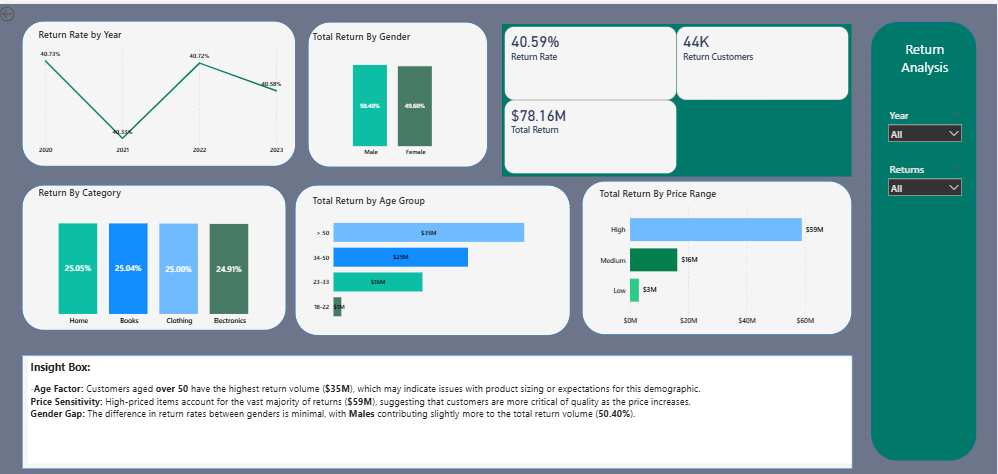

What the dashboard file says about the page in this screenshot:
{"tool":"powerbi","page":{"name":"Return ","canvas":[2000,950],"ordinal":3},"visuals":[{"type":"shape","box":[1748.4,36.6,210.8,877.4],"z":0},{"type":"shape","box":[49.4,361,528.2,290.7],"z":1000},{"type":"shape","box":[49.4,34.2,547.2,290.7],"z":2000},{"type":"columnChart","title":"Return By Category","fields":{"Category":["ecommerce_customer_data_large.Product Category"],"Series":["ecommerce_customer_data_large.Product Category"],"Y":["ecommerce_customer_data_large.Total Return"]},"box":[77.9,364.8,473.1,286.9],"z":3000},{"type":"lineChart","title":"Return Rate by Year","fields":{"Category":["ecommerce_customer_data_large.Year"],"Y":["ecommerce_customer_data_large.Return Rate general"]},"box":[77.9,47.5,499.7,262.2],"z":4000},{"type":"shape","box":[595.7,361.3,550.5,301.1],"z":5000},{"type":"shape","box":[621.5,36.6,359.1,290.3],"z":6000},{"type":"barChart","fields":{"Category":["ecommerce_customer_data_large.Age Group"],"Y":["ecommerce_customer_data_large.Total Return"]},"box":[625.8,380.6,488.2,271],"z":7000},{"type":"columnChart","title":"Total Return By Gender","fields":{"Category":["ecommerce_customer_data_large.Gender"],"Series":["ecommerce_customer_data_large.Gender"],"Y":["ecommerce_customer_data_large.Total Return"]},"box":[625.8,51.6,333.3,262.4],"z":8000},{"type":"textbox","box":[1772,66.7,167.7,86],"z":9000},{"type":"slicer","fields":{"Values":["ecommerce_customer_data_large.Year"]},"box":[1772,202.2,167.7,88.2],"z":10000},{"type":"slicer","fields":{"Values":["ecommerce_customer_data_large.Returns"]},"box":[1772,309.7,167.7,88.2],"z":11000},{"type":"shape","box":[1169.9,354.8,539.8,307.5],"z":12000},{"type":"barChart","title":"Total Return By Price Range","fields":{"Category":["ecommerce_customer_data_large.Price Range"],"Y":["ecommerce_customer_data_large.Total Return"]},"box":[1200,365.6,486,286],"z":13000},{"type":"shape","box":[49.4,701.1,1660.6,228],"z":14000},{"type":"textbox","box":[62.7,706.8,1647.3,212.8],"z":15000},{"type":"actionButton","box":[0,0,100,40],"z":16000},{"type":"cardVisual","fields":{"Data":["ecommerce_customer_data_large.Return Rate","ecommerce_customer_data_large.Return Customers","ecommerce_customer_data_large.Total Return"]},"box":[1010,40.1,698.9,305.4],"z":17000}]}

Visuals, with their boxes in screenshot pixels (x1, y1, x2, y2), scaled from the page's 2000x950 canvas onto the 998x474 screenshot:
shape: (x1=872, y1=18, x2=978, y2=456)
shape: (x1=25, y1=180, x2=288, y2=325)
shape: (x1=25, y1=17, x2=298, y2=162)
"Return By Category" columnChart: (x1=39, y1=182, x2=275, y2=325)
"Return Rate by Year" lineChart: (x1=39, y1=24, x2=288, y2=155)
shape: (x1=297, y1=180, x2=572, y2=331)
shape: (x1=310, y1=18, x2=489, y2=163)
barChart - ecommerce_customer_data_large.Age Group x ecommerce_customer_data_large.Total Return: (x1=312, y1=190, x2=556, y2=325)
"Total Return By Gender" columnChart: (x1=312, y1=26, x2=479, y2=157)
textbox: (x1=884, y1=33, x2=968, y2=76)
slicer - ecommerce_customer_data_large.Year: (x1=884, y1=101, x2=968, y2=145)
slicer - ecommerce_customer_data_large.Returns: (x1=884, y1=155, x2=968, y2=199)
shape: (x1=584, y1=177, x2=853, y2=330)
"Total Return By Price Range" barChart: (x1=599, y1=182, x2=841, y2=325)
shape: (x1=25, y1=350, x2=853, y2=464)
textbox: (x1=31, y1=353, x2=853, y2=459)
actionButton: (x1=0, y1=0, x2=50, y2=20)
cardVisual - ecommerce_customer_data_large.Return Rate x ecommerce_customer_data_large.Return Customers: (x1=504, y1=20, x2=853, y2=172)
